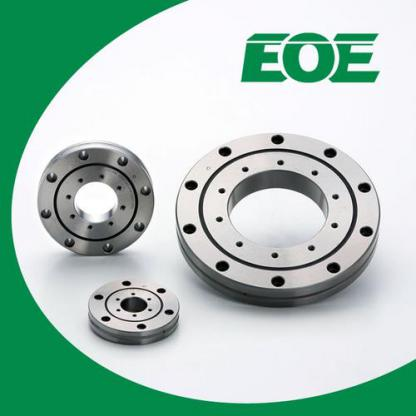FOD: (173, 130, 384, 308), (34, 140, 156, 260), (83, 273, 181, 350)
